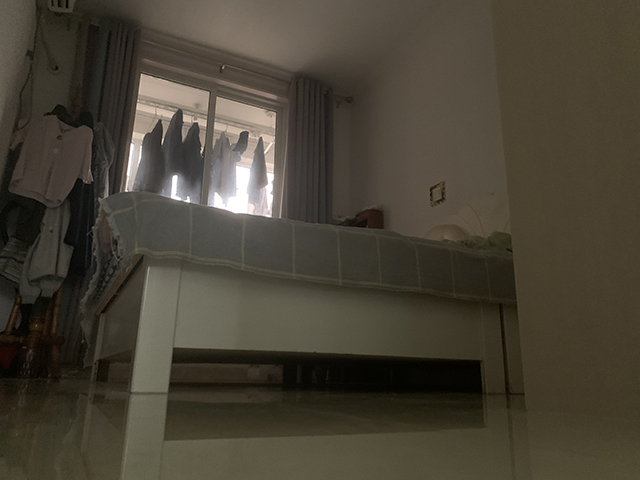bed: (77, 189, 523, 397)
curtain: (89, 20, 135, 194), (279, 71, 332, 220)
